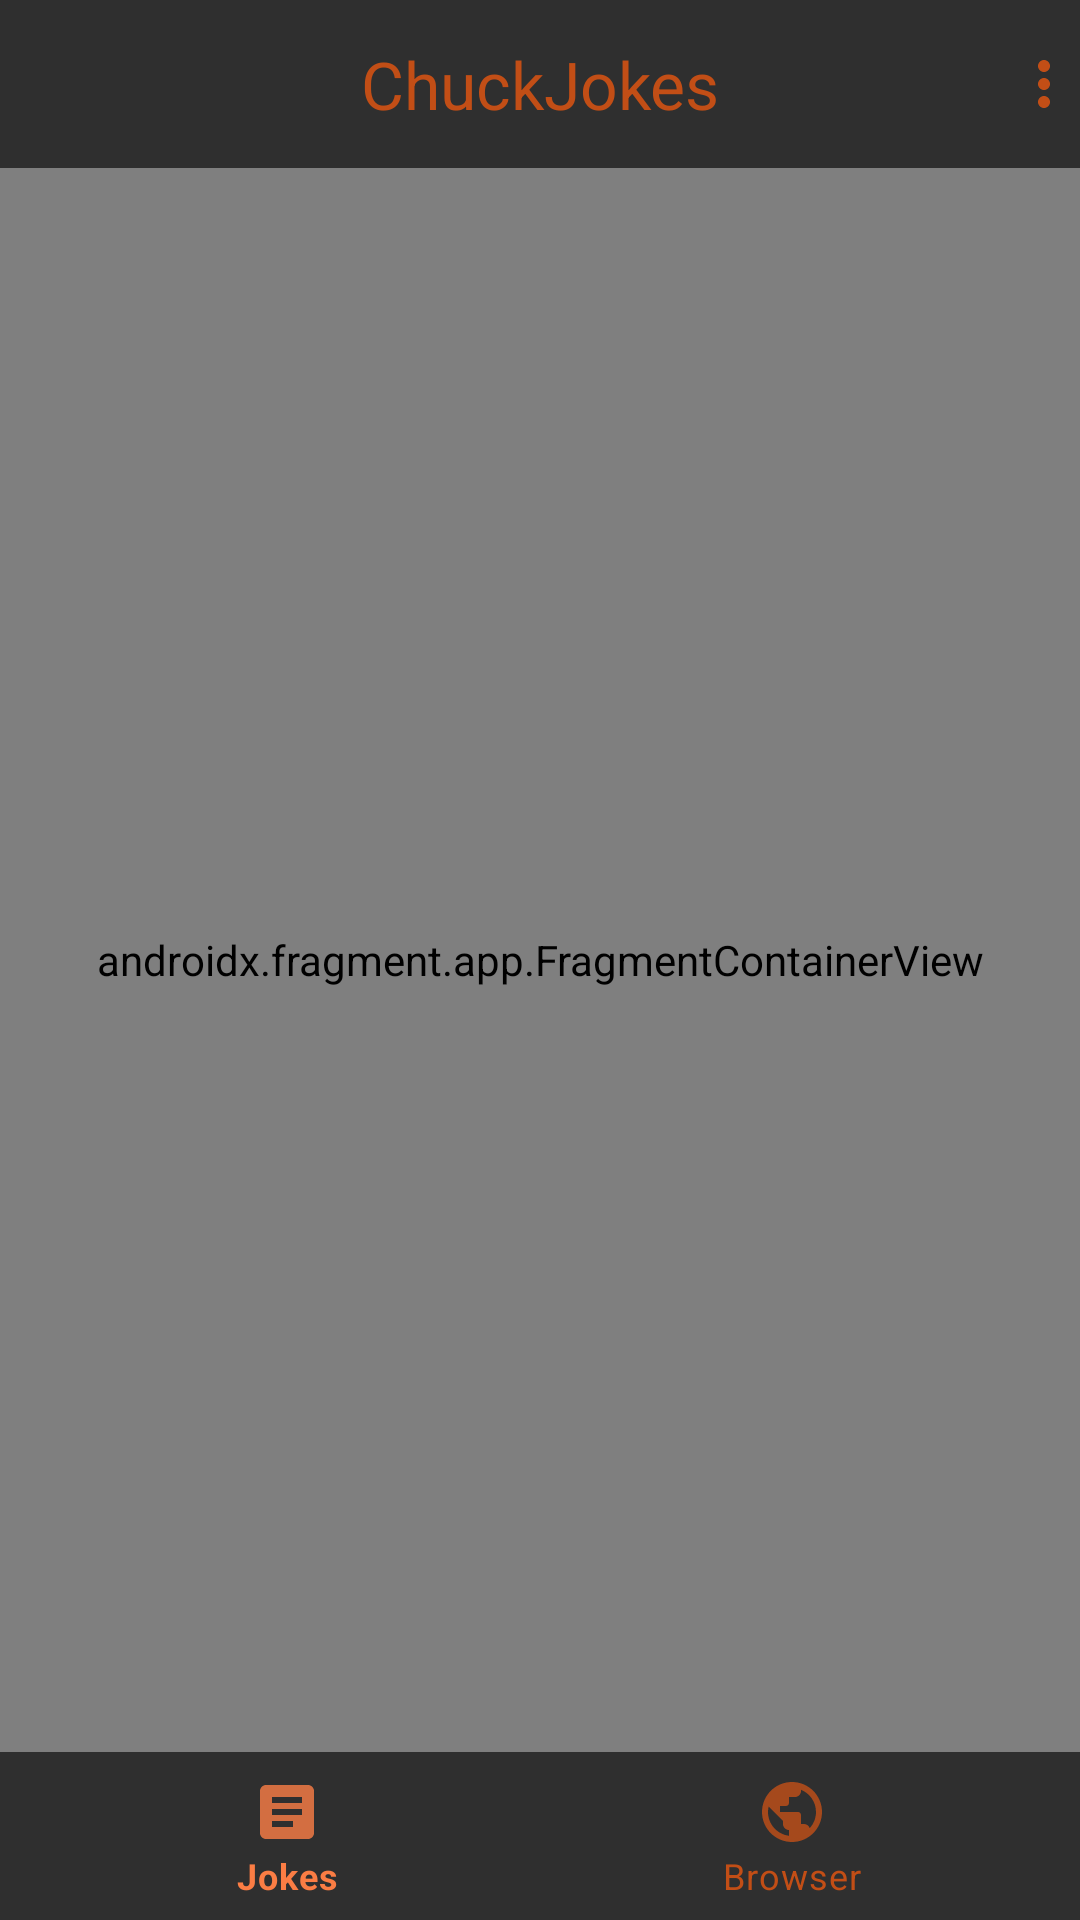

Screen size 1080×1920. Icon name, then its box in pixels as (x1, y1, x2, y2):
more vert: (1038, 60, 1050, 108)
